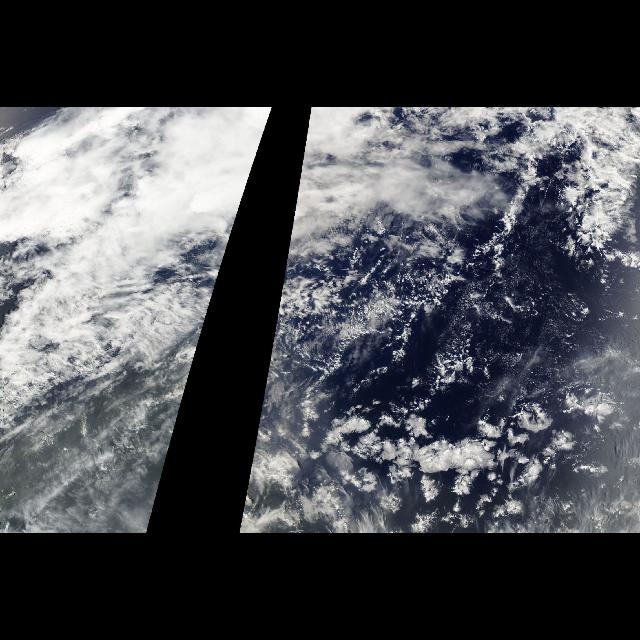Flower: (262, 366, 624, 534)
